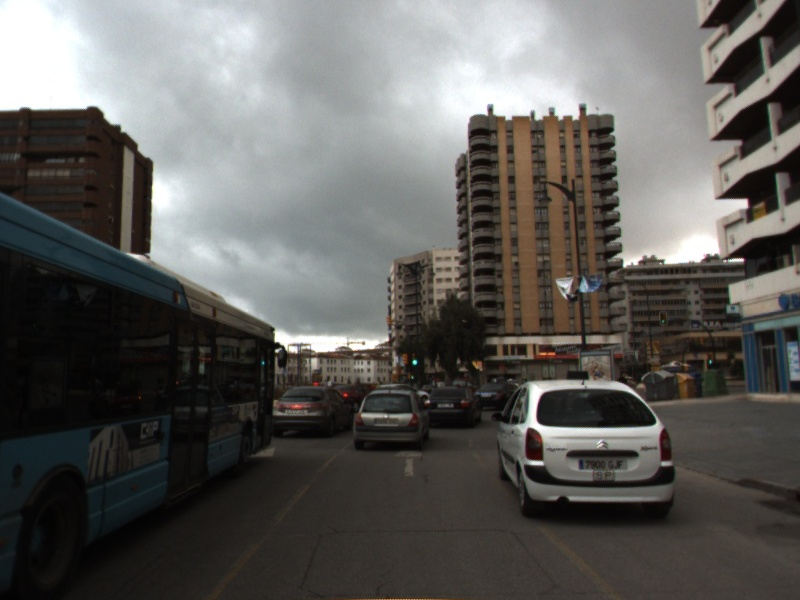STRAIGHT: (391, 448, 427, 479)
